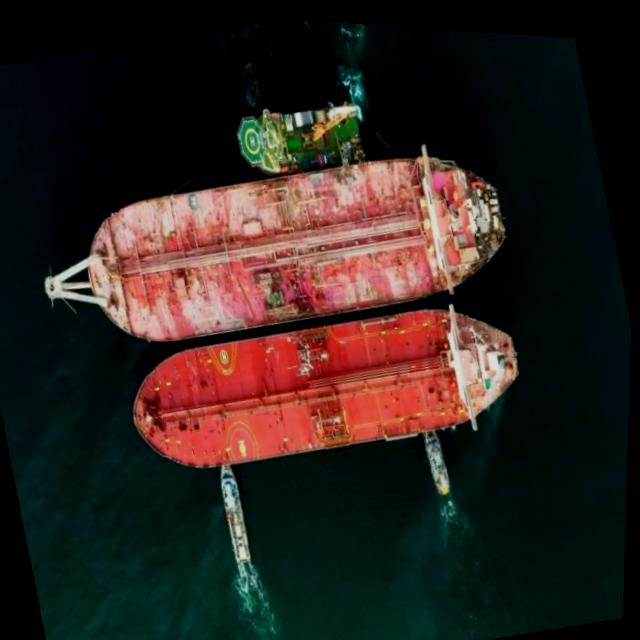ship2: (43, 138, 507, 339), (134, 298, 520, 464), (236, 92, 368, 170), (221, 459, 255, 561), (422, 422, 458, 490)
